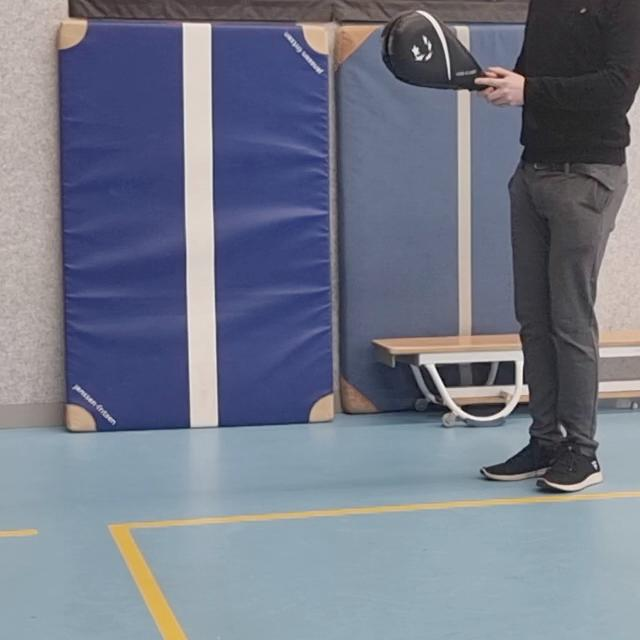paddle: (382, 8, 493, 90)
